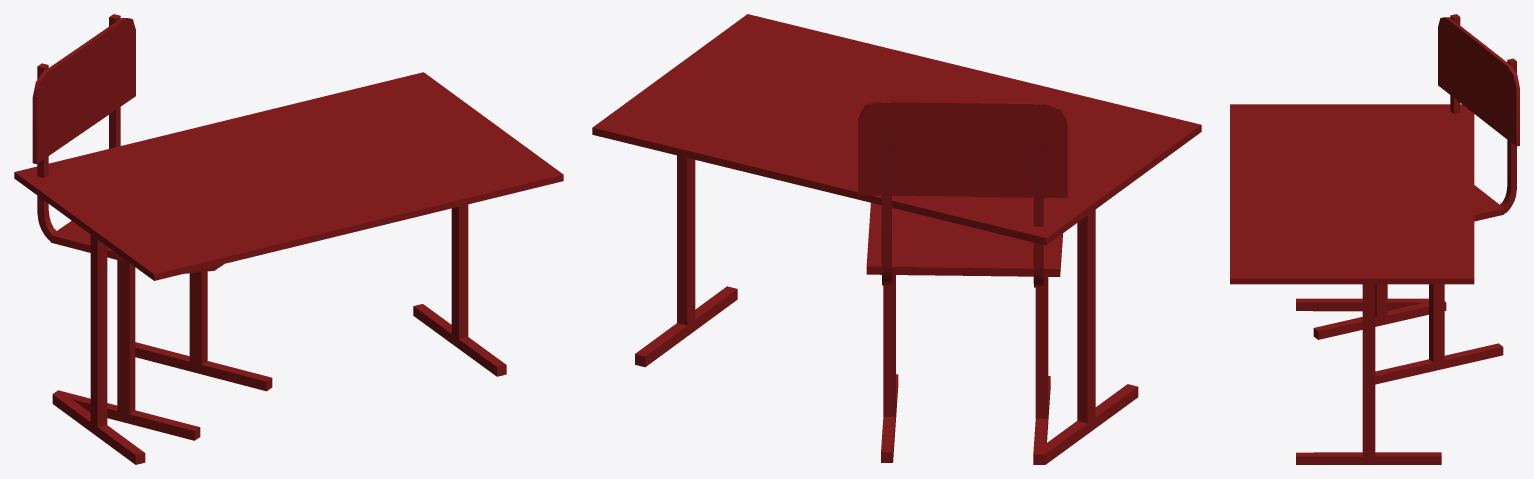
File: SM_StulStol.fbx
3 renders of one model, left to right at view 1: azimuth 30°, elevation 25°; view 2: azimuth 150°, elevation 25°; view 3: azimuth 270°, elevation 25°, orthographic. The views are drawn at different scales.
Visible parts, largest first — view 1: draft.011, draft.012; view 2: draft.011, draft.012; view 3: draft.011, draft.012.
Part boxes in pixels (left/top/right/bottom): draft.011: left=14, top=72, right=563, bottom=464; draft.012: left=32, top=14, right=272, bottom=440; draft.011: left=592, top=14, right=1201, bottom=464; draft.012: left=858, top=99, right=1067, bottom=464; draft.011: left=1230, top=104, right=1474, bottom=464; draft.012: left=1313, top=14, right=1519, bottom=384.
Size of the model in its own units: 134 by 104 by 94.28.
